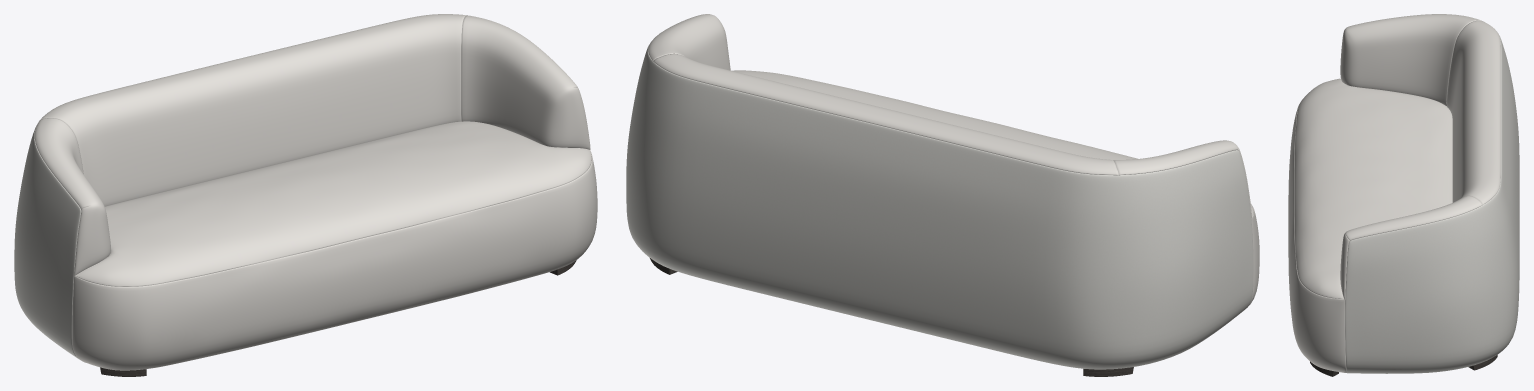
The model's file is sofacabochon.obj.
The picture shows the model from 3 angles, left to right: view 1: azimuth 30°, elevation 25°; view 2: azimuth 150°, elevation 25°; view 3: azimuth 270°, elevation 25°; orthographic projection. The views are drawn at different scales.
Parts seen in each view (by area): view 1: sobc_body; view 2: sobc_body, sobc_legs; view 3: sobc_body, sobc_legs.
Part boxes in pixels (bbox=[...]): sobc_body: bbox=[14, 14, 597, 370]; sobc_body: bbox=[626, 14, 1259, 369]; sobc_legs: bbox=[650, 258, 1133, 376]; sobc_body: bbox=[1288, 14, 1519, 373]; sobc_legs: bbox=[1310, 355, 1497, 376].
Size of the model in its own units: 207 by 72.58 by 90.58.
Materials: 2 (2 with a texture image).
